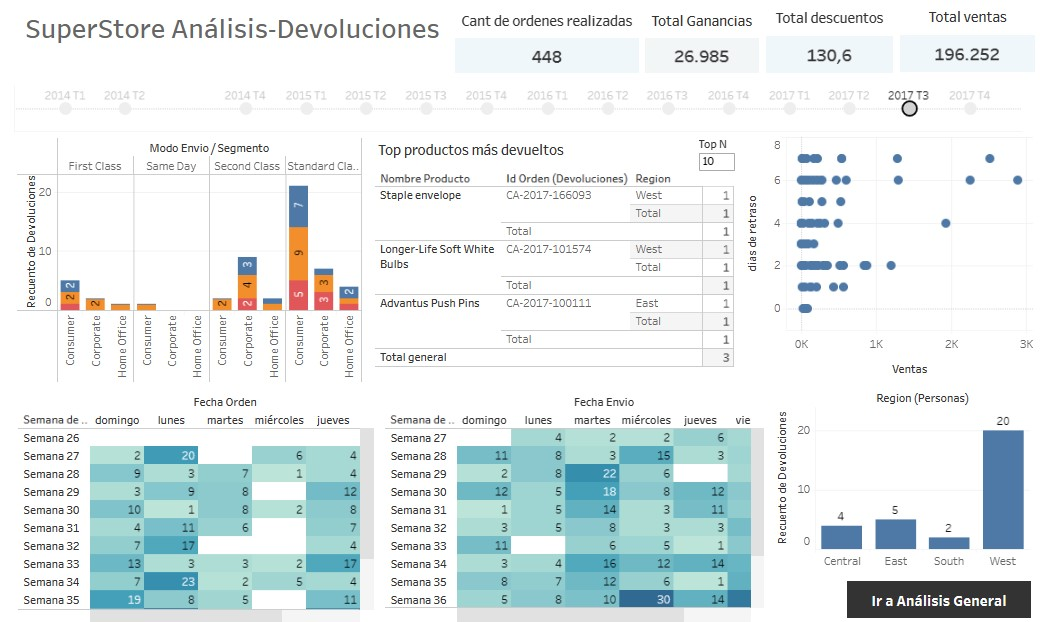

The page's visual inventory and layout, read from the dashboard file:
{"tool":"tableau","page":{"name":"Dashboard 2","canvas":[1150,700],"ordinal":1},"visuals":[{"type":"worksheet","title":"Total ventas","mark":"Automatic","box":[989,5,150,78]},{"type":"worksheet","title":"Total descuentos","mark":"Automatic","box":[840,6,141,78]},{"type":"worksheet","title":"Cant de ordenes realizadas","mark":"Automatic","box":[494,9,205,75]},{"type":"worksheet","title":"Total Ganancias","mark":"Automatic","box":[705,9,127,76]},{"type":"text","box":[17,12,472,46]},{"type":"worksheet","title":"Linea trimestre","mark":"Circle","rows":["Calculation_884112969379733508"],"cols":["Calculation_884112969378291713"],"box":[4,98,1120,53]},{"type":"worksheet","title":"Top productos más devueltos","mark":"Automatic","rows":["Nombre Producto","Id Orden (Devoluciones)","Region"],"box":[405,153,407,275]},{"type":"parameter","param":"[Parameters].[Parámetro 1]","box":[765,154,42,45]},{"type":"worksheet","title":"Diagrama de dispersion entre ventas y dias de retraso","mark":"Circle","rows":["Calculation_884112969383956486"],"cols":["Ventas"],"box":[809,155,328,272]},{"type":"worksheet","title":"devoluciones por modo de envio, segmento y categoria","mark":"Bar","rows":["Devoluciones_F3653ACEF42E4ED2BC562BFB3E69F182"],"cols":["Modo Envio","Segmento"],"box":[8,157,383,272]},{"type":"worksheet","title":"Devoluciones por region","mark":"Bar","rows":["Devoluciones_F3653ACEF42E4ED2BC562BFB3E69F182"],"cols":["Region (Personas)"],"box":[842,435,291,201]},{"type":"worksheet","title":"recuento por colores Fecha de Orden","mark":"Square","rows":["Fecha Orden"],"cols":["Fecha Orden"],"box":[9,439,395,257]},{"type":"worksheet","title":"recuento por colores Fecha de Envio","mark":"Square","rows":["Fecha Envio"],"cols":["Fecha Envio"],"box":[417,439,421,255]},{"type":"dashboard-object","box":[930,649,204,41]}]}

Visuals, with their boxes in screenshot pixels (x1, y1, x2, y2), scaled from the page's 1150x700 canvas onto the 1041x622 screenshot:
"Total ventas" worksheet: bbox=(895, 4, 1031, 74)
"Total descuentos" worksheet: bbox=(760, 5, 888, 75)
"Cant de ordenes realizadas" worksheet: bbox=(447, 8, 633, 75)
"Total Ganancias" worksheet: bbox=(638, 8, 753, 76)
text: bbox=(15, 11, 443, 52)
"Linea trimestre" worksheet (Circle marks): bbox=(4, 87, 1017, 134)
"Top productos más devueltos" worksheet: bbox=(367, 136, 735, 380)
parameter: bbox=(692, 137, 731, 177)
"Diagrama de dispersion entre ventas y dias de retraso" worksheet (Circle marks): bbox=(732, 138, 1029, 379)
"devoluciones por modo de envio, segmento y categoria" worksheet (Bar marks): bbox=(7, 140, 354, 381)
"Devoluciones por region" worksheet (Bar marks): bbox=(762, 387, 1026, 565)
"recuento por colores Fecha de Orden" worksheet (Square marks): bbox=(8, 390, 366, 618)
"recuento por colores Fecha de Envio" worksheet (Square marks): bbox=(377, 390, 759, 617)
dashboard-object: bbox=(842, 577, 1027, 613)
